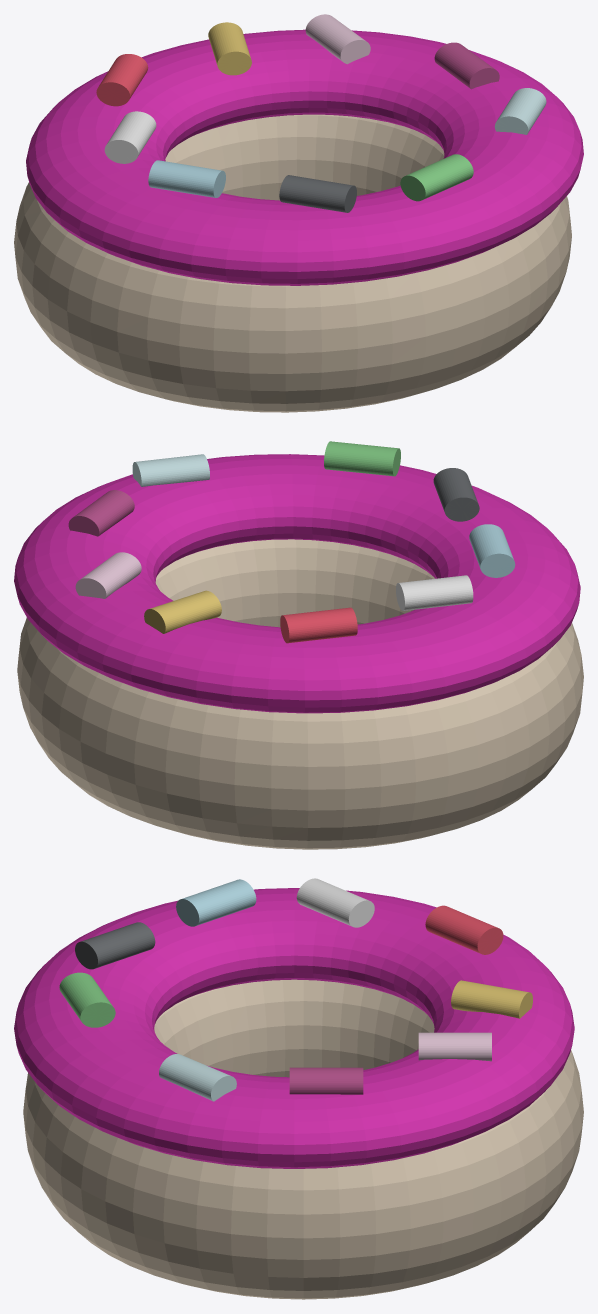
File: Carter L - donut.glb
The picture shows the model from 3 angles, top to bottom: view 1: azimuth 30°, elevation 25°; view 2: azimuth 150°, elevation 25°; view 3: azimuth 270°, elevation 25°; orthographic projection. The views are drawn at different scales.
Parts seen in each view (by area): view 1: Mesh_Mesh_head_geo.001_lambert2SG.001; view 2: Mesh_Mesh_head_geo.001_lambert2SG.001; view 3: Mesh_Mesh_head_geo.001_lambert2SG.001.
Part boxes in pixels (<box>): Mesh_Mesh_head_geo.001_lambert2SG.001: <box>14,14,583,412</box>; Mesh_Mesh_head_geo.001_lambert2SG.001: <box>14,441,583,849</box>; Mesh_Mesh_head_geo.001_lambert2SG.001: <box>14,878,583,1299</box>.
Size of the model in its own units: 0.066 by 0.028 by 0.062.
